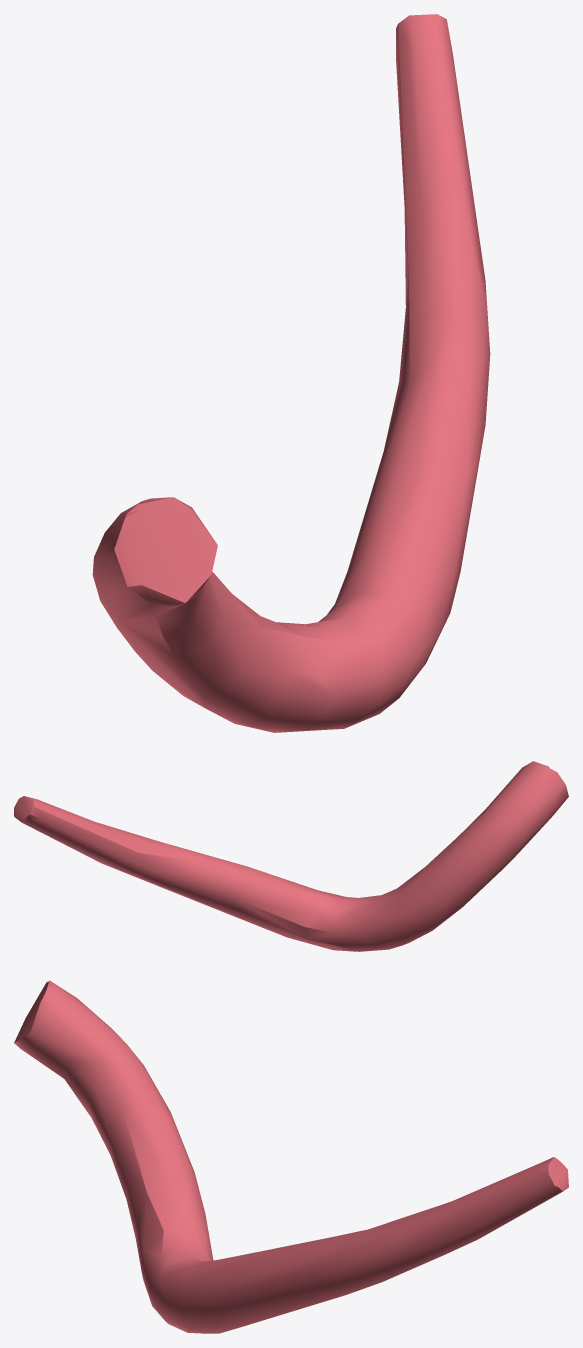
Rendered from fma68135_fj5964.glb.
3 views of the same model, one above another, from view 1: azimuth 30°, elevation 25°; view 2: azimuth 150°, elevation 25°; view 3: azimuth 270°, elevation 25° (orthographic). The views are drawn at different scales.
Visible parts, largest first — view 1: FMA68135_FJ5964; view 2: FMA68135_FJ5964; view 3: FMA68135_FJ5964.
Part boxes in pixels (bbox=[...]): FMA68135_FJ5964: bbox=[92, 14, 490, 732]; FMA68135_FJ5964: bbox=[14, 761, 568, 951]; FMA68135_FJ5964: bbox=[14, 980, 568, 1333].
Size of the model in its own units: 0.0296 by 0.0165 by 0.0298.
